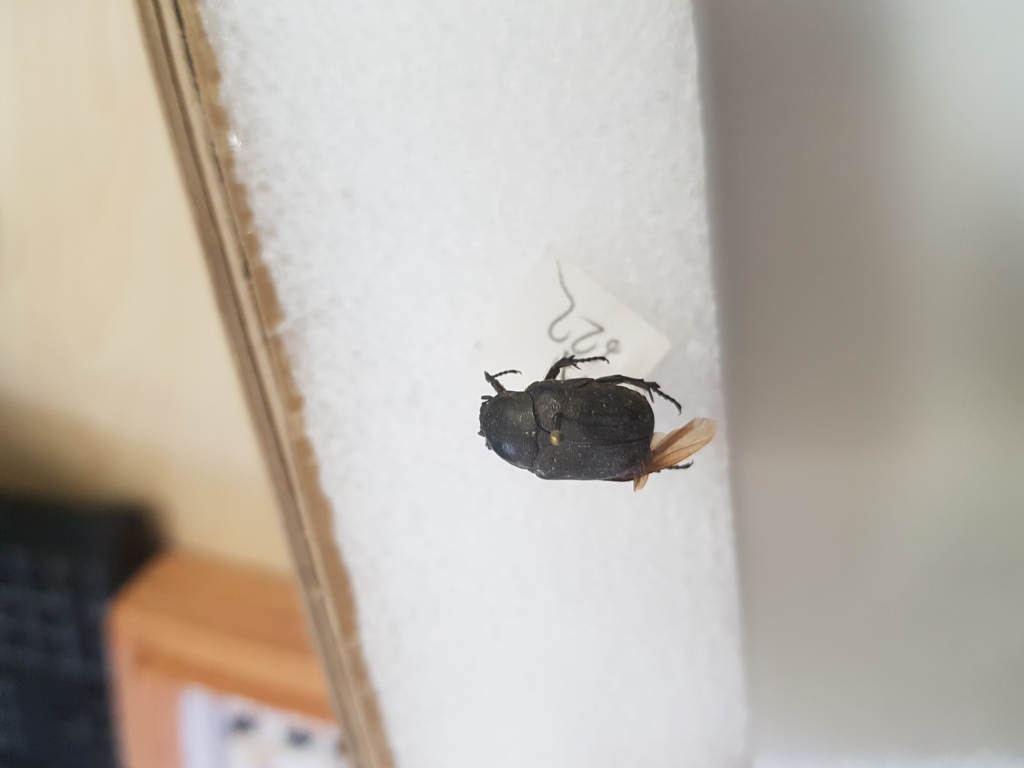Protaetia_asiatica: (468, 351, 719, 497)
